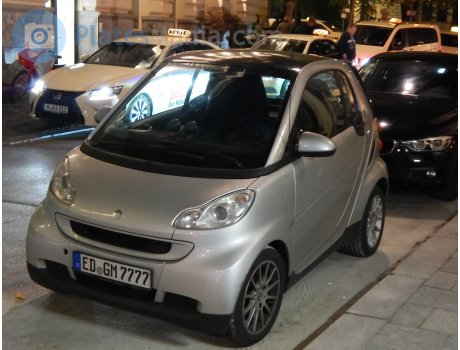License Plates: (80, 259, 132, 274)
